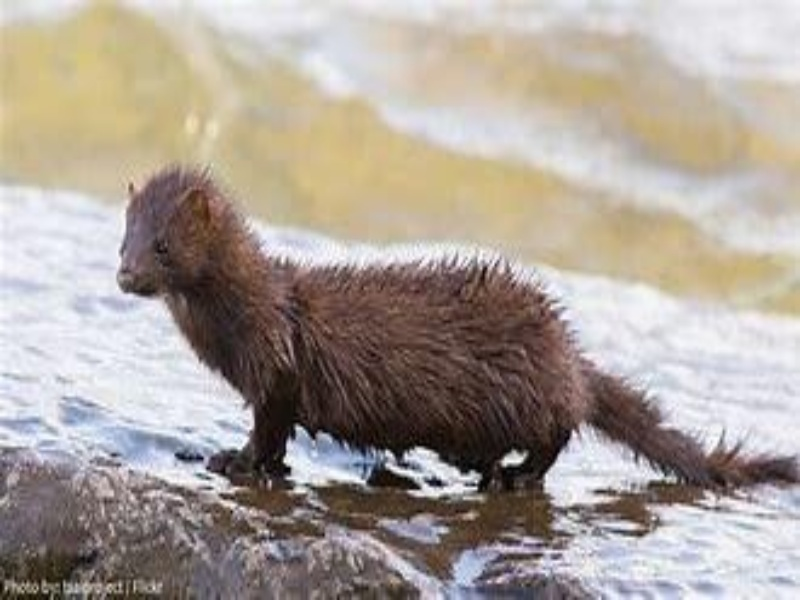minkish: (112, 164, 793, 500)
